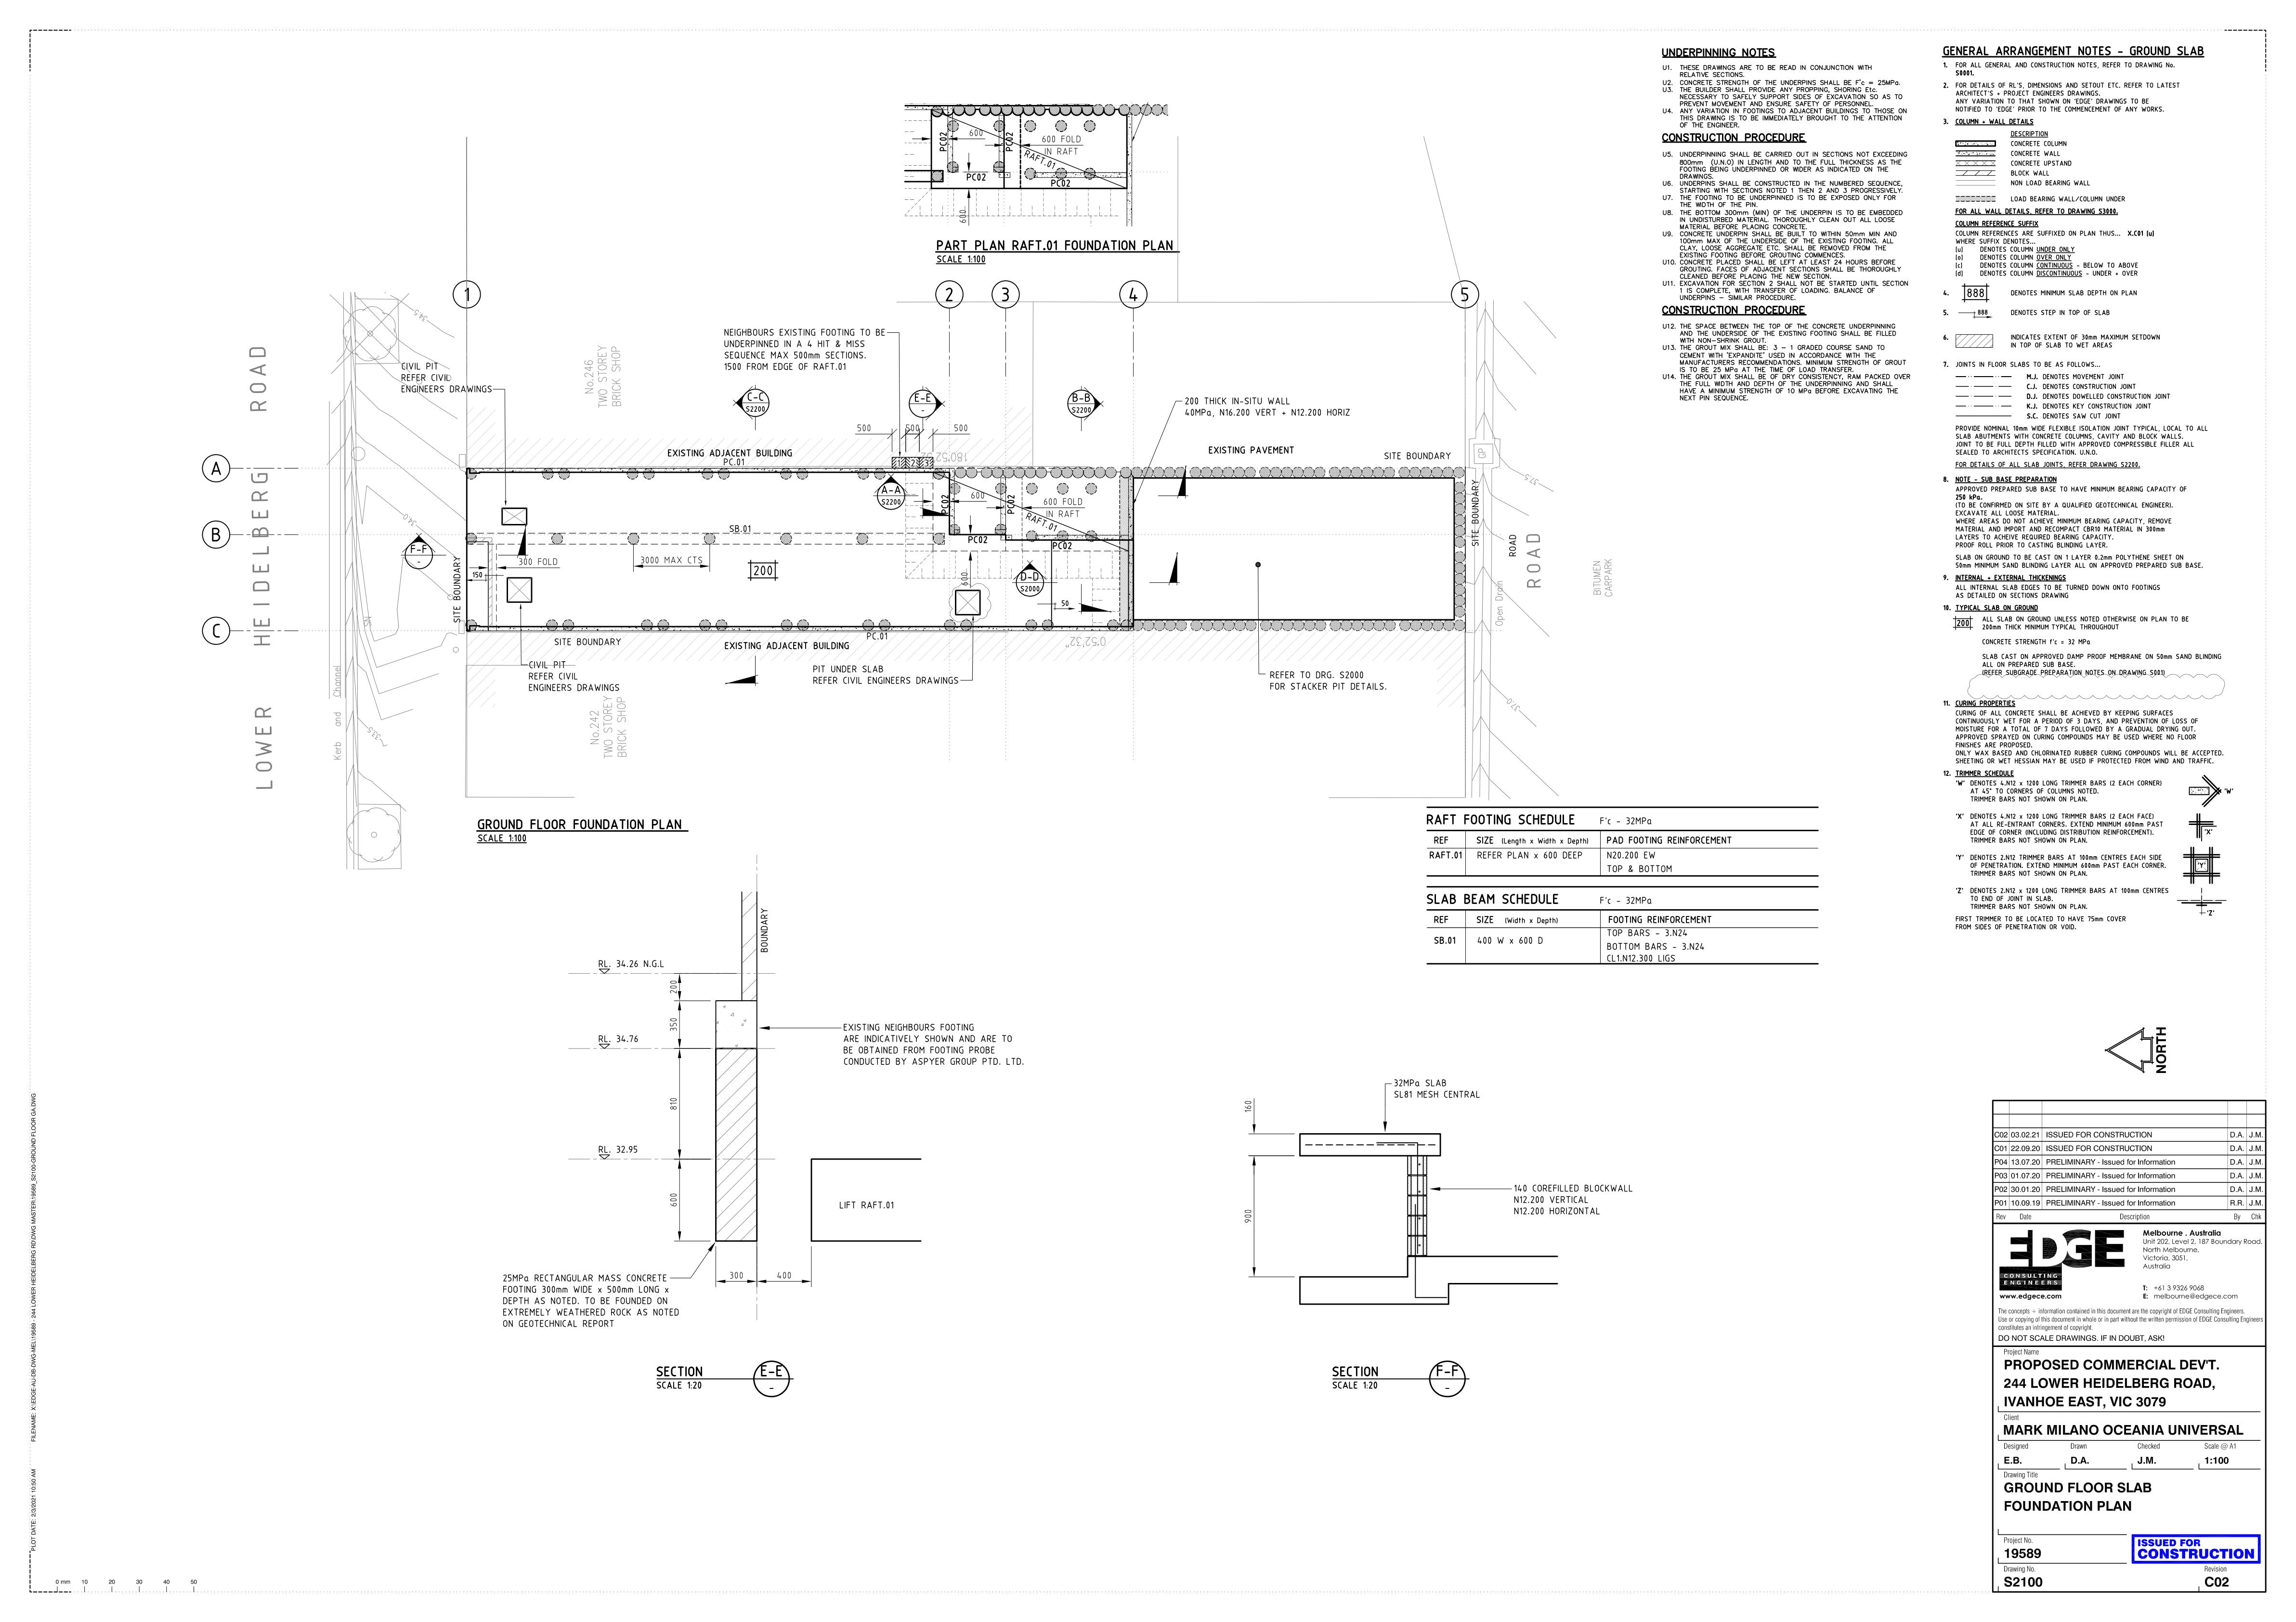PC.01: (864, 630, 893, 644), (716, 456, 751, 467)
PC02: (960, 169, 990, 184), (937, 490, 951, 516), (1048, 539, 1074, 553), (1004, 492, 1018, 518), (1048, 179, 1076, 190), (967, 534, 990, 546), (1002, 133, 1016, 151), (939, 128, 950, 151)
SB.01: (727, 523, 757, 534)
